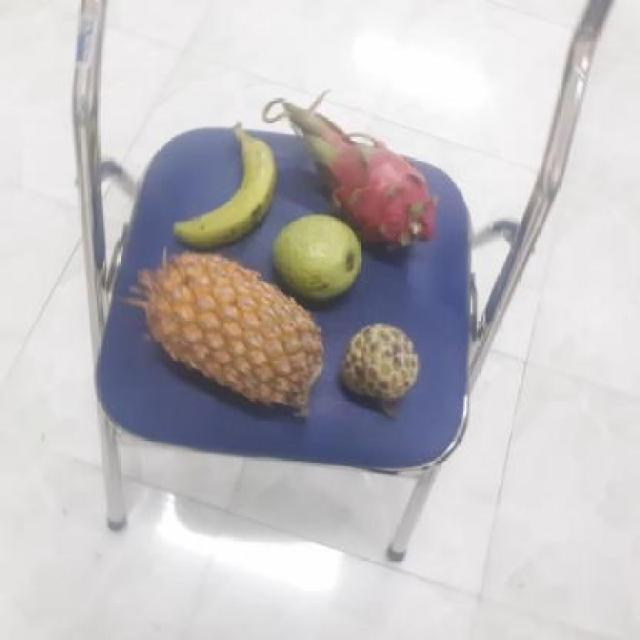banana: (172, 133, 276, 249)
dragon fruit: (296, 128, 430, 248)
guava: (268, 214, 363, 301)
pineapple: (138, 253, 322, 416)
sugar apple: (332, 323, 416, 406)
